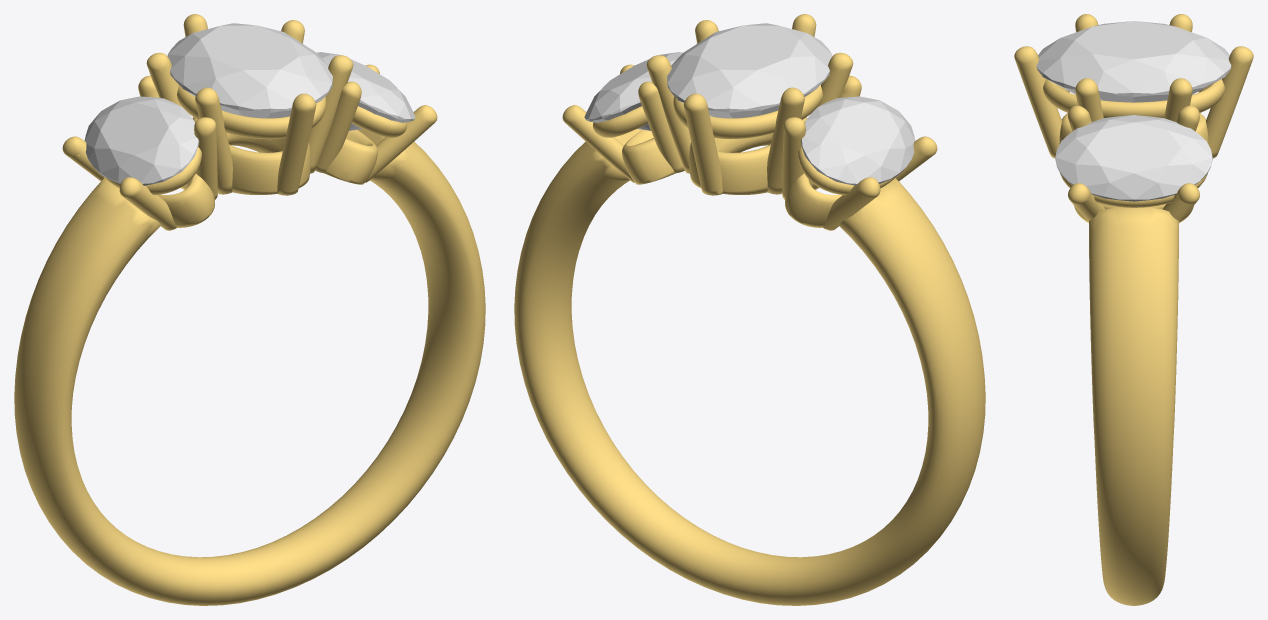
Rendered from diamond-oval-yellowgold-6prong-taperedband-3stone.glb.
3 renders of one model, left to right at view 1: azimuth 30°, elevation 25°; view 2: azimuth 150°, elevation 25°; view 3: azimuth 270°, elevation 25°, orthographic.
Parts seen in each view (by area): view 1: metal, stone.001, side.002, side.003; view 2: metal, stone.001, side.002, side.003; view 3: metal, stone.001, side.003.
Part boxes in pixels (box(x1,y1,x2,y2)): metal: box(14, 14, 485, 605); stone.001: box(167, 23, 332, 118); side.002: box(84, 96, 199, 185); side.003: box(317, 52, 415, 130); metal: box(514, 14, 985, 605); stone.001: box(667, 23, 832, 118); side.002: box(800, 96, 915, 185); side.003: box(584, 52, 682, 130); metal: box(1014, 14, 1253, 605); stone.001: box(1036, 21, 1231, 102); side.003: box(1055, 115, 1212, 201).
Bounding box in the file's own units: 20.09 × 23.2 × 9.29.
